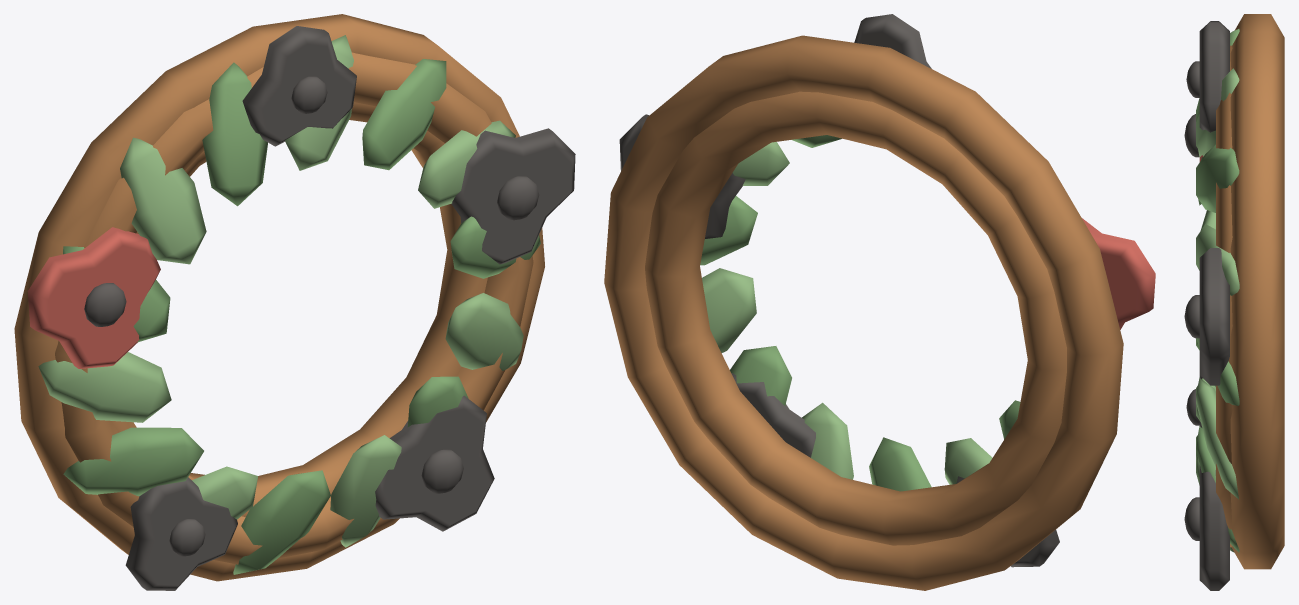
File: dark_tulip_wreath.glb
The picture shows the model from 3 angles, left to right: view 1: azimuth 30°, elevation 25°; view 2: azimuth 150°, elevation 25°; view 3: azimuth 270°, elevation 25°; orthographic projection. The views are drawn at different scales.
Parts seen in each view (by area): view 1: dark_tulip_wreath_mesh; view 2: dark_tulip_wreath_mesh; view 3: dark_tulip_wreath_mesh.
Part boxes in pixels (box(x1,y1,x2,y2)): dark_tulip_wreath_mesh: box(14, 14, 575, 590); dark_tulip_wreath_mesh: box(604, 14, 1155, 590); dark_tulip_wreath_mesh: box(1184, 14, 1284, 590).
Size of the model in its own units: 0.4755 by 0.4674 by 0.0818.
